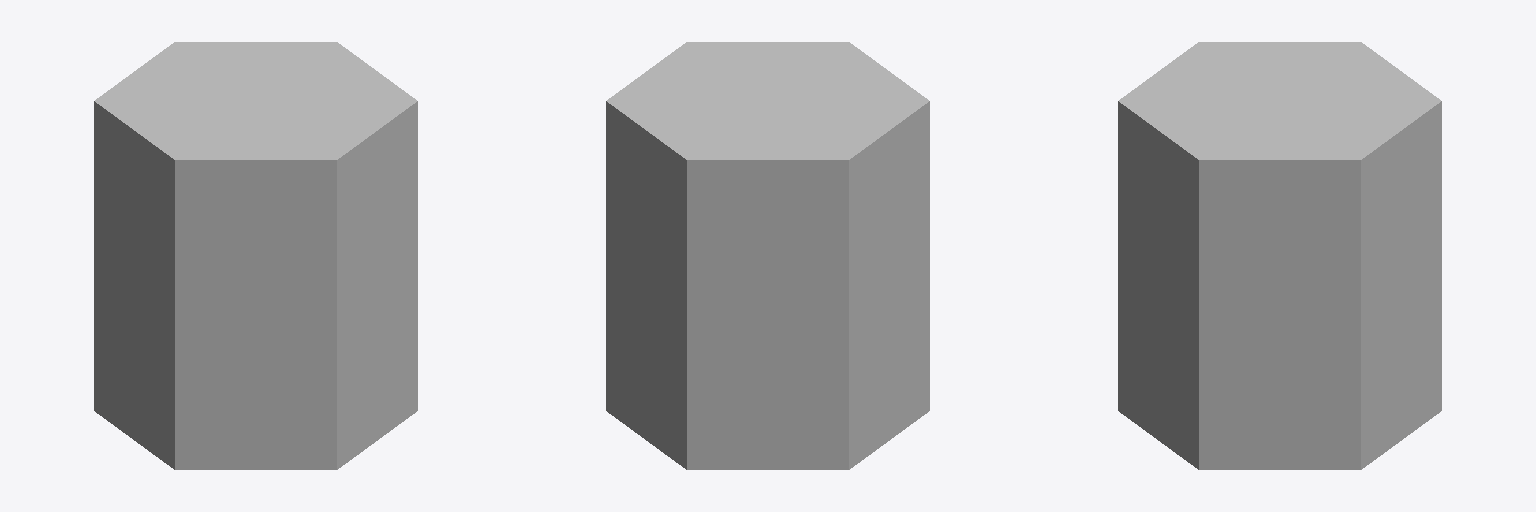
The model's file is enemy4.obj.
The picture shows the model from 3 angles: view 1: azimuth 30°, elevation 25°; view 2: azimuth 150°, elevation 25°; view 3: azimuth 270°, elevation 25°; orthographic projection.
Parts seen in each view (by area): view 1: Cube; view 2: Cube; view 3: Cube.
Part boxes in pixels (x1,y1,x2,y2): Cube: (94, 42, 417, 469); Cube: (606, 42, 929, 469); Cube: (1118, 42, 1441, 469).
Size of the model in its own units: 1.32 by 1.6 by 1.52.